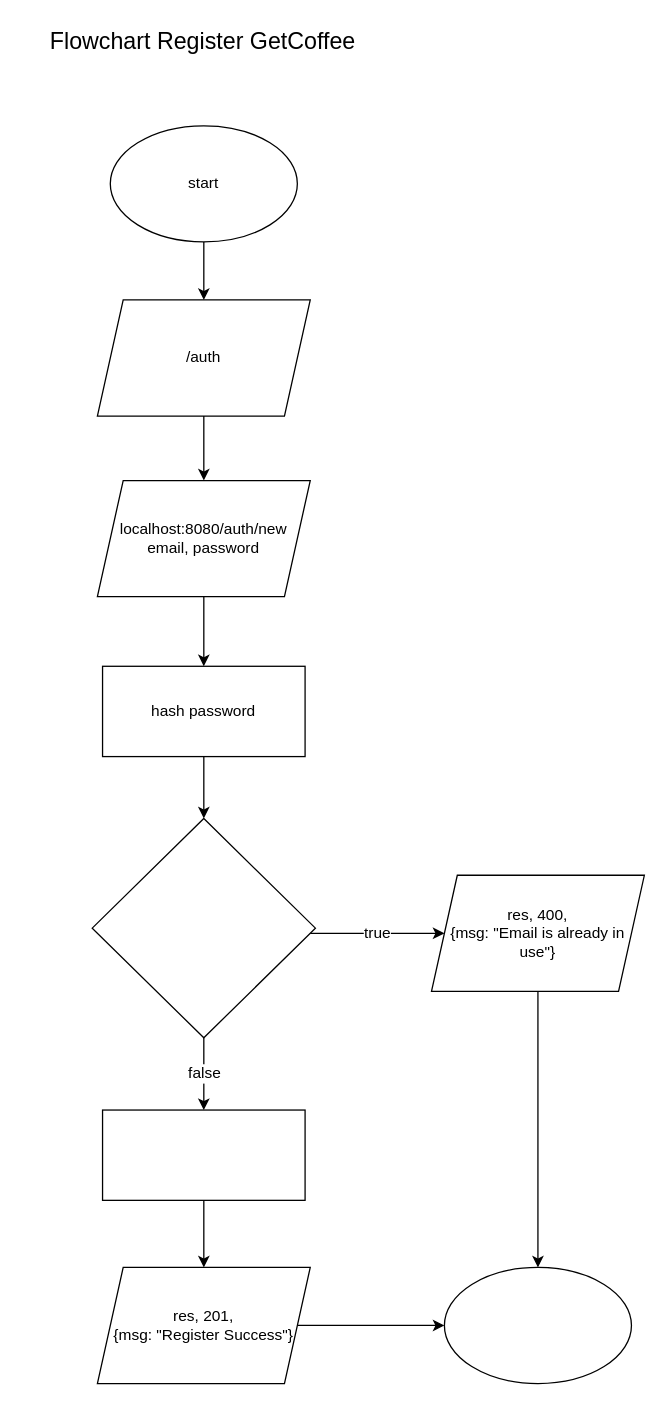
The diagram is 667 pixels wide and 1406 high, and some of its shapes have lost their labels. Here are the shapes that lost their labels. From the top down, the centre of each, then its label:
(x=203, y=927): email validation/ check duplicate if result.rowCount > 0
(x=203, y=1154): database access "INSERT INTO users" (email, pass)
(x=537, y=1325): end
